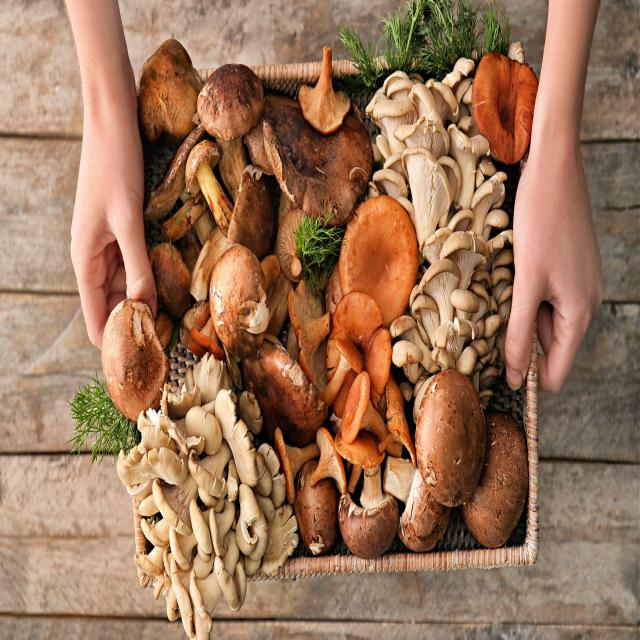Mushroom: (115, 42, 543, 554)
